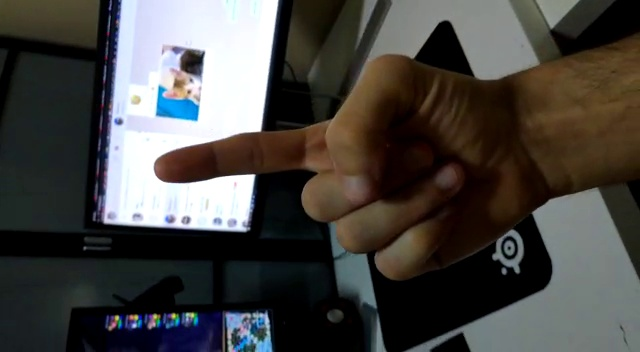One: (134, 60, 413, 256)
